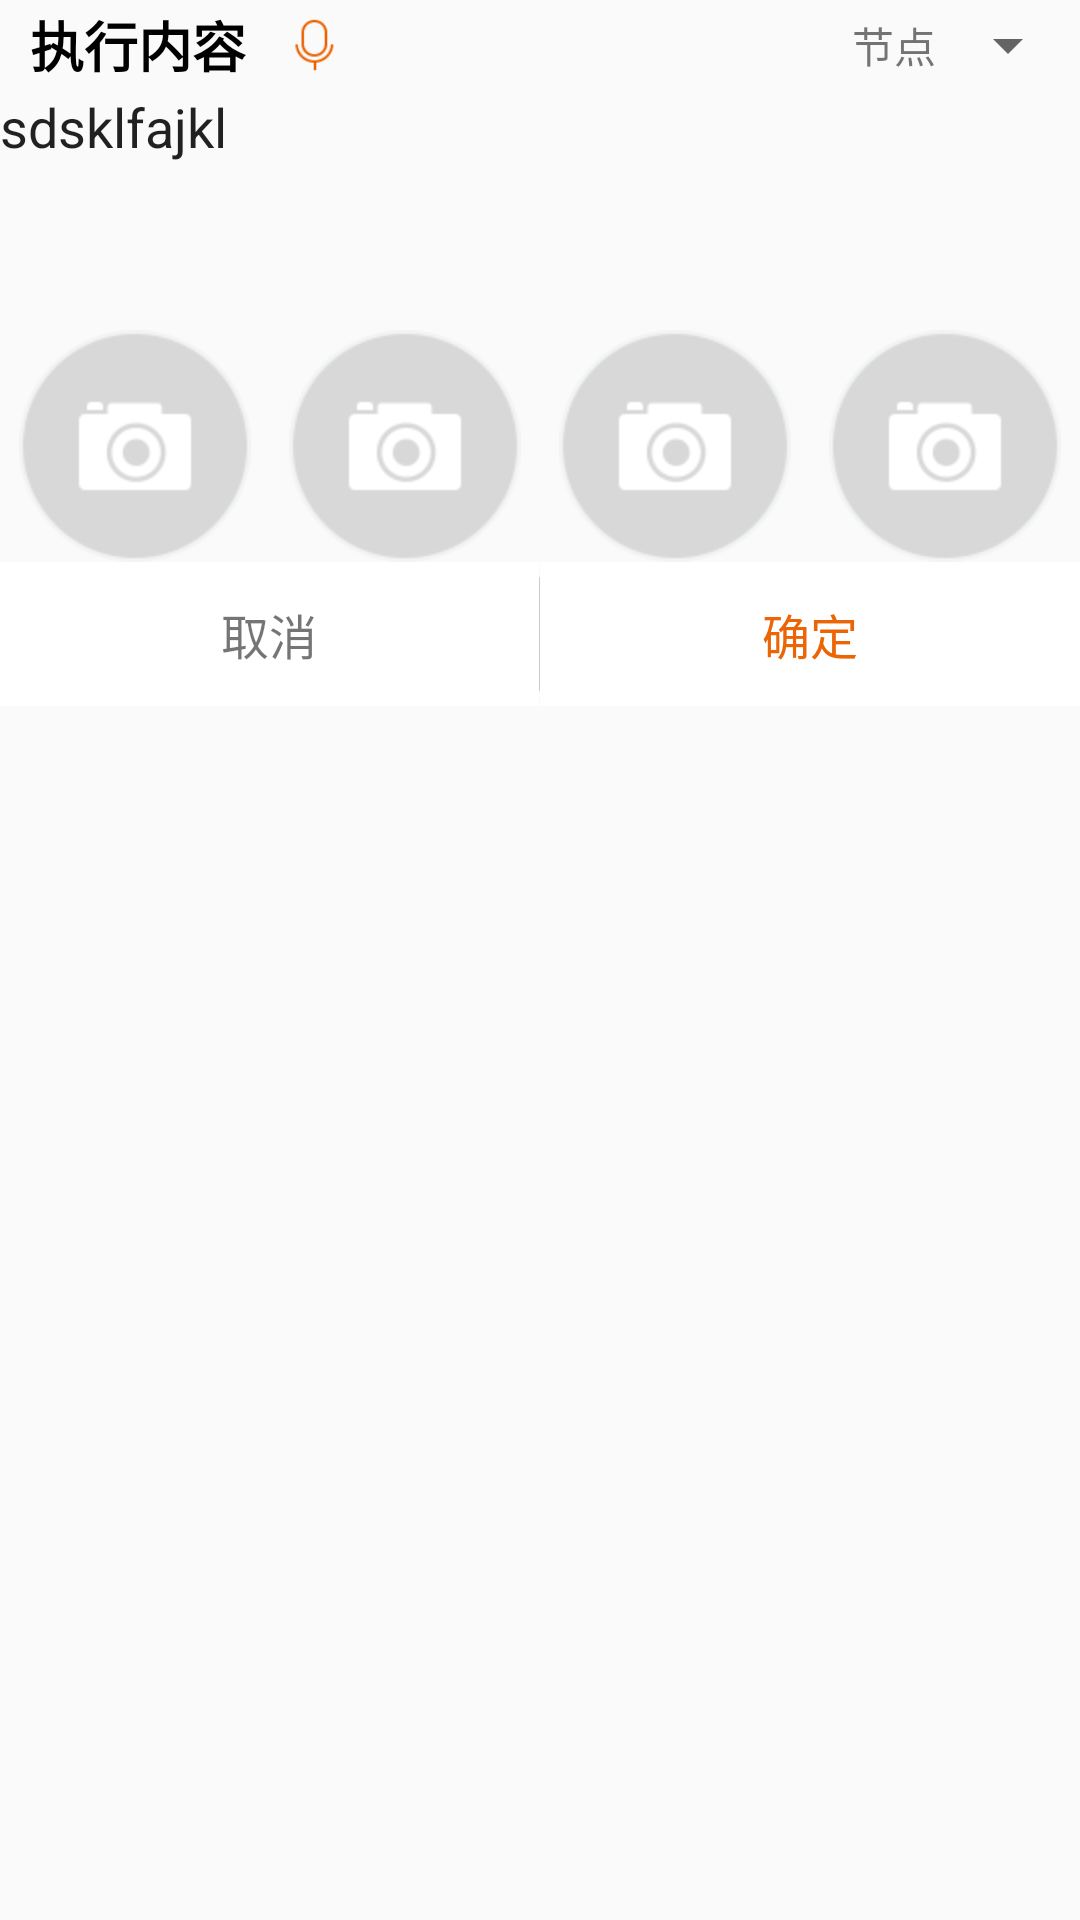

Icons on this 1080px×1920px Android screen, each with the point to tap as point (x, y):
camera: point (135, 446), point (405, 446), point (675, 446), point (945, 446)
